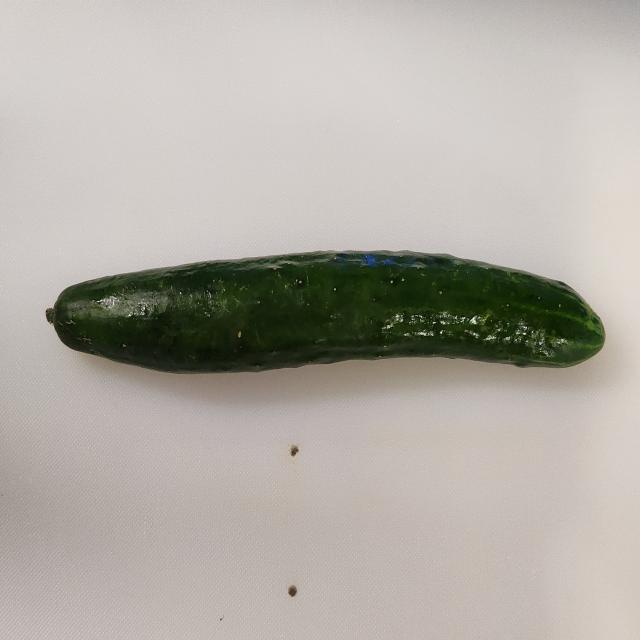cucumber: (45, 248, 606, 374)
